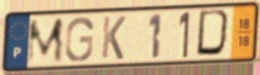1: (148, 12, 163, 60), (178, 10, 191, 60)
D: (194, 8, 234, 60)
G: (63, 16, 95, 64)
K: (100, 15, 128, 62)
M: (25, 16, 65, 66)
